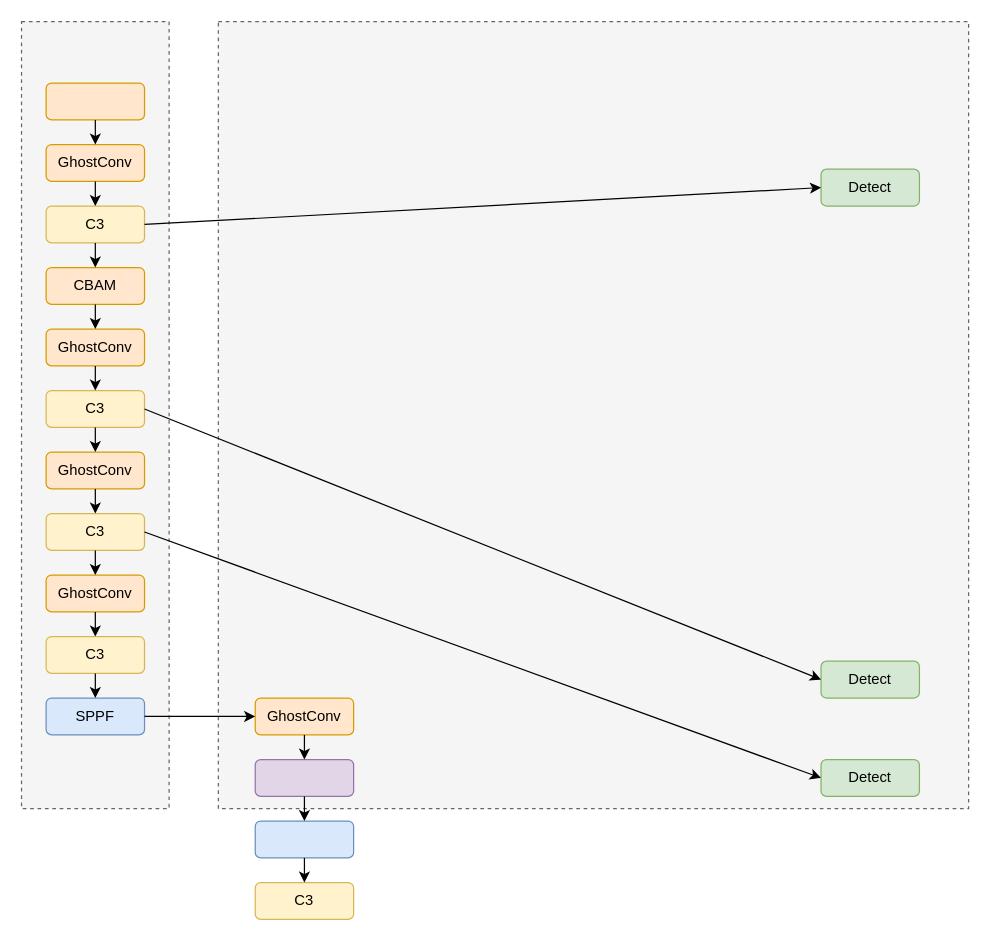
Some shapes in this 990 by 941 pixel diagram are drawn without their labels. The centre of each missing label's shape, as x and y in pixels:
BiFPN: (304,839)
Conv: (95,101)
Upsample: (304,777)
